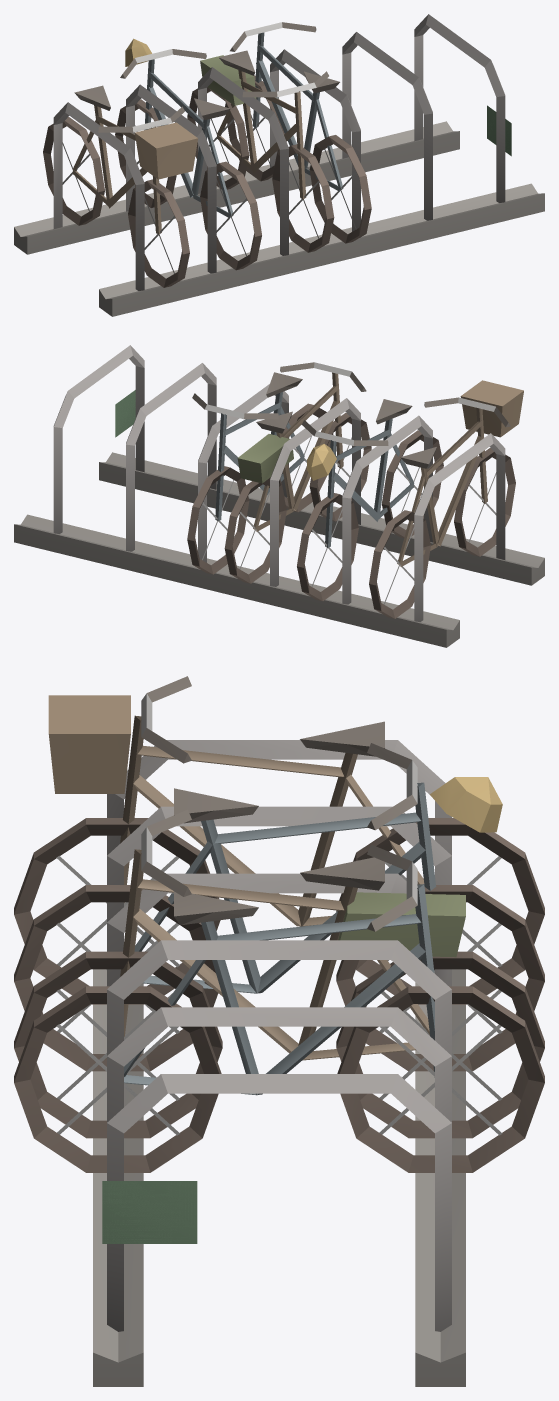
The model's file is bikes.glb.
3 renders of one model, top to bottom at view 1: azimuth 30°, elevation 25°; view 2: azimuth 150°, elevation 25°; view 3: azimuth 270°, elevation 25°, orthographic. The views are drawn at different scales.
Parts seen in each view (by area): view 1: bikes.001; view 2: bikes.001; view 3: bikes.001.
Part boxes in pixels (x1=…): bikes.001: x1=14, y1=14, x2=544, y2=316; bikes.001: x1=14, y1=345, x2=544, y2=647; bikes.001: x1=14, y1=676, x2=544, y2=1386.
Size of the model in its own units: 3 by 1.14 by 1.68.
